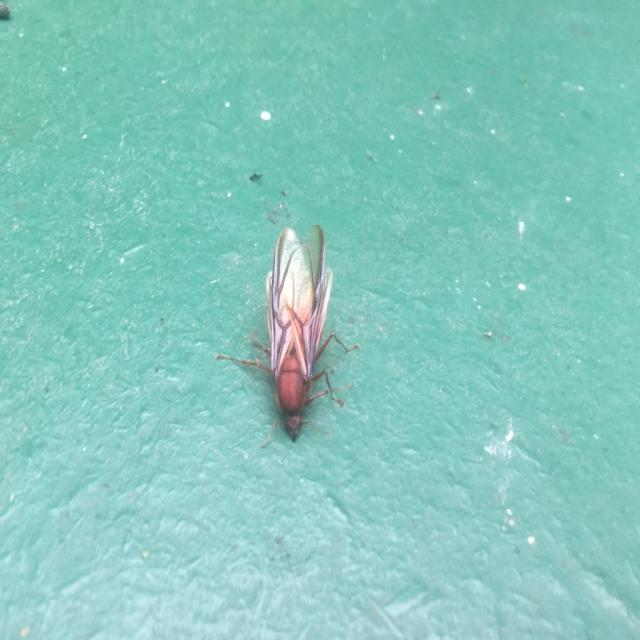Alive-Male-Alate: (216, 224, 361, 449)
